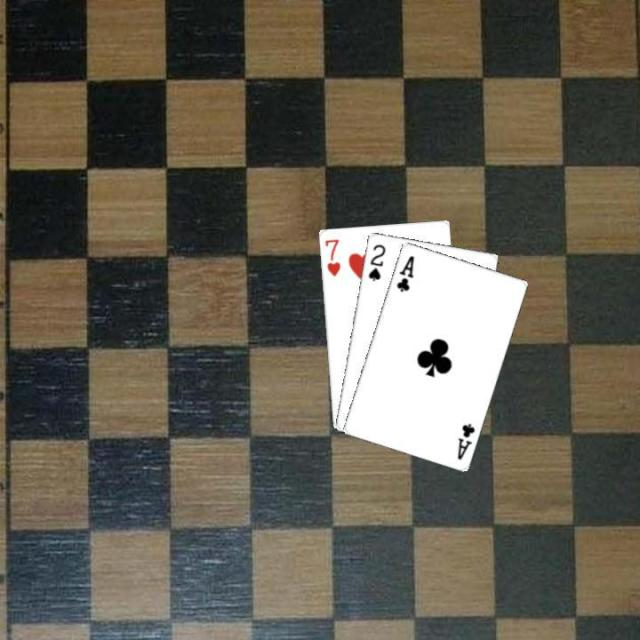2S: (364, 240, 386, 283)
7H: (321, 235, 341, 278)
AC: (392, 252, 416, 294), (454, 419, 476, 461)
